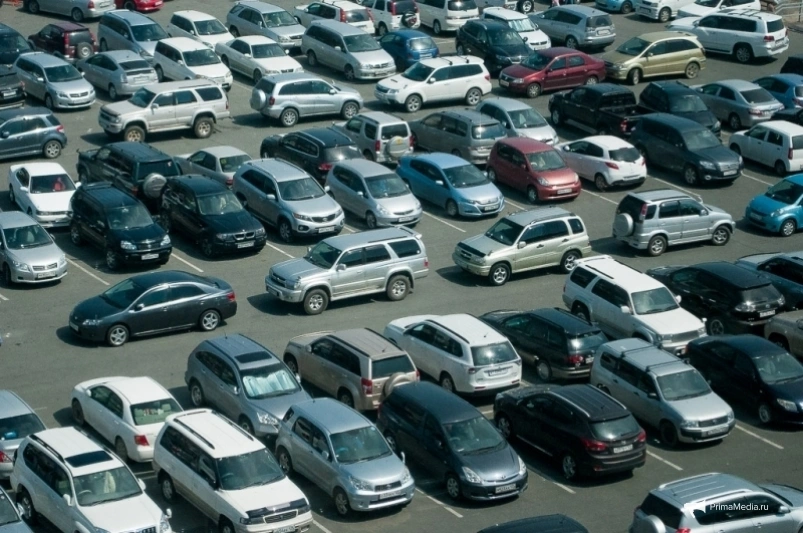Car: (153, 407, 312, 533), (377, 381, 528, 501), (11, 427, 173, 533), (275, 398, 415, 516), (590, 338, 735, 447), (493, 384, 647, 481), (265, 226, 429, 315), (562, 255, 706, 356), (185, 334, 312, 443), (69, 270, 237, 347), (384, 314, 522, 397), (283, 328, 419, 412), (682, 335, 803, 426), (452, 207, 591, 285), (629, 472, 803, 533), (646, 262, 786, 335), (70, 376, 183, 464), (233, 158, 345, 242), (480, 308, 607, 382), (70, 182, 172, 270), (159, 175, 267, 258), (97, 79, 230, 142), (612, 189, 735, 257), (631, 113, 745, 185), (76, 142, 181, 215), (398, 153, 504, 218), (665, 8, 790, 63), (375, 55, 493, 112), (326, 158, 422, 227), (250, 73, 364, 127), (488, 137, 581, 203), (548, 83, 649, 143), (260, 128, 362, 187), (302, 19, 396, 81), (603, 31, 706, 85), (410, 109, 507, 165), (499, 47, 605, 98), (552, 135, 647, 191), (0, 211, 67, 284), (12, 51, 96, 109), (689, 80, 783, 131), (8, 162, 80, 228), (639, 81, 721, 138), (455, 18, 533, 76), (0, 390, 49, 481), (153, 37, 233, 91), (215, 34, 305, 82), (75, 50, 159, 101), (334, 112, 414, 165), (475, 97, 560, 146), (735, 251, 803, 312), (526, 4, 616, 50), (728, 121, 803, 176), (226, 0, 305, 51), (97, 9, 170, 64), (745, 173, 803, 237), (174, 145, 251, 192), (0, 107, 67, 160), (27, 23, 99, 67), (482, 6, 551, 51), (294, 0, 376, 35), (166, 10, 235, 51), (377, 28, 439, 73), (349, 0, 421, 36), (415, 0, 480, 35), (477, 514, 589, 533), (23, 0, 118, 21), (765, 310, 803, 361), (677, 0, 761, 20), (754, 74, 803, 108), (0, 486, 33, 533), (0, 23, 34, 66), (636, 0, 695, 22), (0, 64, 26, 109), (475, 0, 535, 15), (114, 0, 164, 13), (596, 0, 639, 14), (770, 108, 803, 126), (781, 54, 803, 76)
